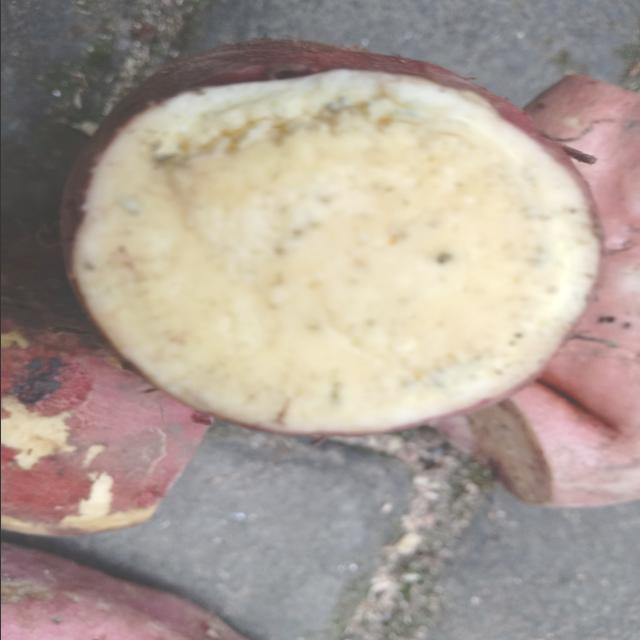Healthy Sweet Potato: (72, 70, 598, 434)
